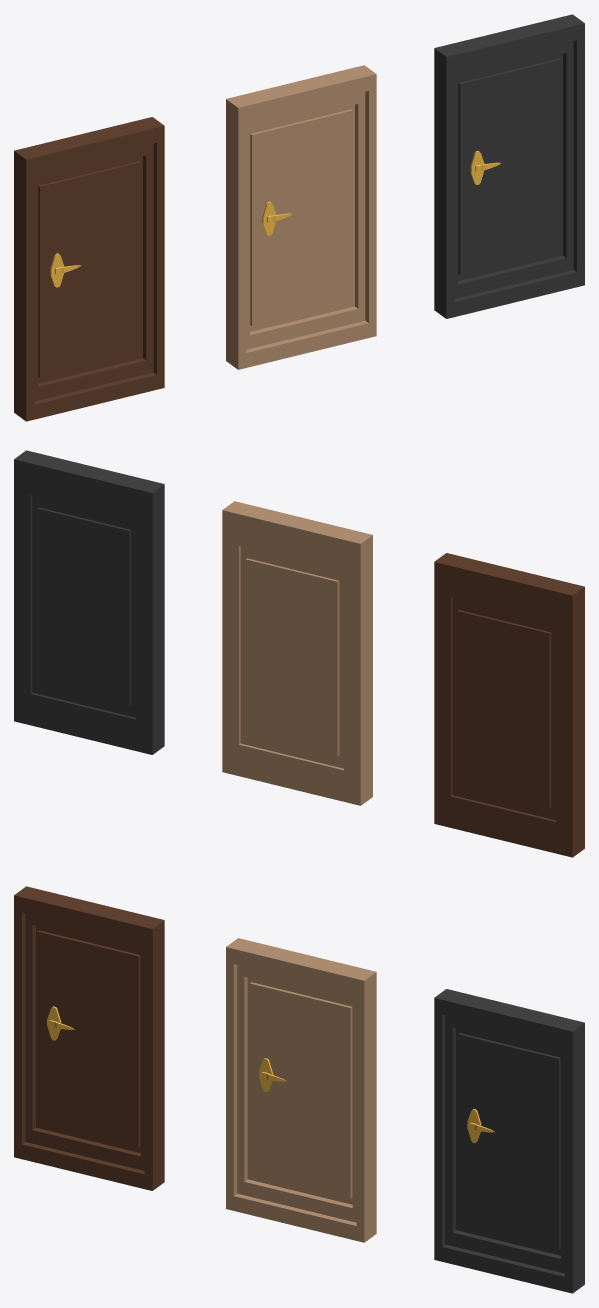
Rendered from DoorModel.glb.
3 views of the same model, one above another, from view 1: azimuth 30°, elevation 25°; view 2: azimuth 150°, elevation 25°; view 3: azimuth 330°, elevation 25° (orthographic).
Parts seen in each view (by area): view 1: Door, Door.002, Door.001; view 2: Door.002, Door, Door.001; view 3: Door.001, Door.002, Door.
Part boxes in pixels (x1,y1,x2,y2): Door: (14,117,164,421); Door.002: (226,65,376,369); Door.001: (434,14,584,318); Door.002: (222,501,372,805); Door: (434,553,584,857); Door.001: (14,450,164,754); Door.001: (434,989,584,1293); Door.002: (226,938,376,1242); Door: (14,886,164,1190).
Size of the model in its own units: 7.39 by 3.31 by 0.2824.
Materials: 1 (1 with a texture image).
